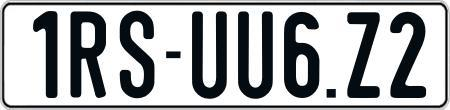1: (33, 11, 63, 98)
2: (388, 12, 428, 103)
6: (281, 12, 320, 104)
R: (69, 8, 110, 99)
S: (120, 10, 157, 102)
U: (237, 11, 275, 105), (189, 10, 227, 100)
Z: (344, 10, 382, 101)
